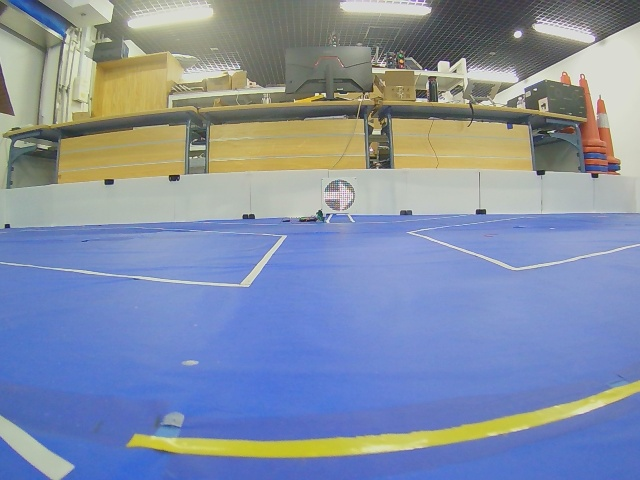right_yellow: (323, 179, 356, 212)
